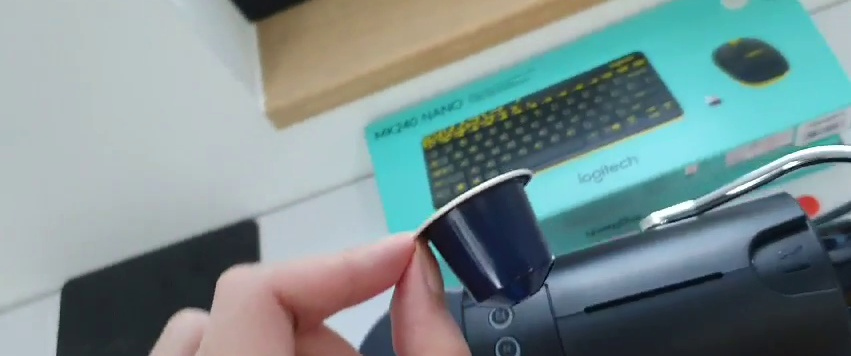capsule_1: (415, 166, 559, 309)
